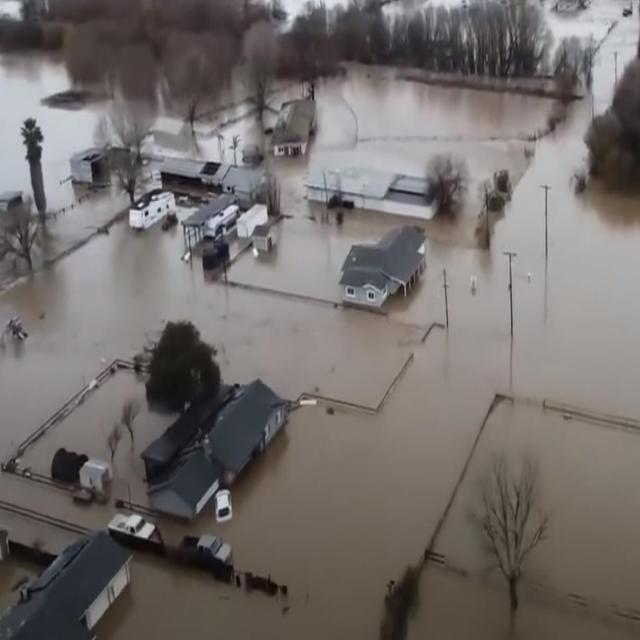flood: (0, 72, 640, 640), (409, 401, 640, 640), (0, 369, 174, 556), (0, 50, 109, 206), (228, 210, 404, 305), (271, 141, 460, 213), (542, 0, 640, 112), (140, 101, 264, 163), (40, 186, 129, 261), (317, 98, 356, 148), (0, 260, 27, 285), (282, 0, 308, 24)
house: (136, 364, 285, 524), (0, 529, 140, 640), (341, 218, 425, 312), (310, 164, 438, 224), (185, 192, 278, 270), (270, 94, 317, 164)
